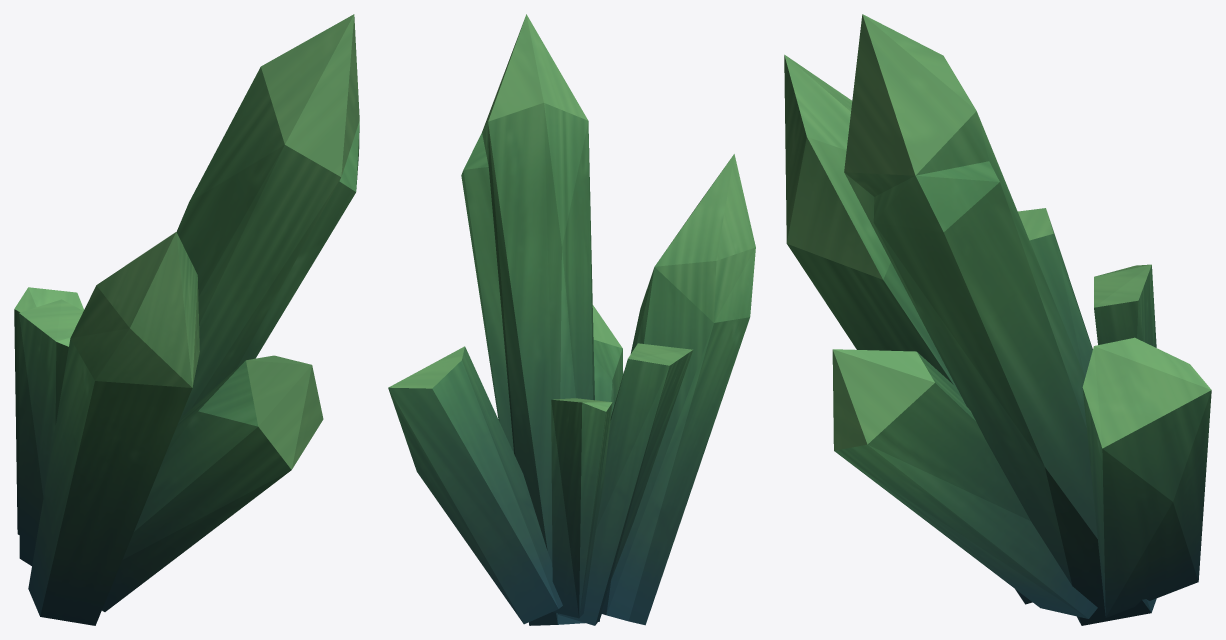
File: Crystal3.fbx
The picture shows the model from 3 angles, left to right: view 1: azimuth 30°, elevation 25°; view 2: azimuth 150°, elevation 25°; view 3: azimuth 270°, elevation 25°; orthographic projection. The views are drawn at different scales.
Parts seen in each view (by area): view 1: Crystal3; view 2: Crystal3; view 3: Crystal3.
Boxes of the visible parts, x1,y1,x2,y2 form: Crystal3: [14, 14, 359, 625]; Crystal3: [388, 14, 755, 625]; Crystal3: [784, 14, 1211, 625].
Size of the model in its own units: 72.77 by 142 by 79.38.
1 material, 1 textured.
